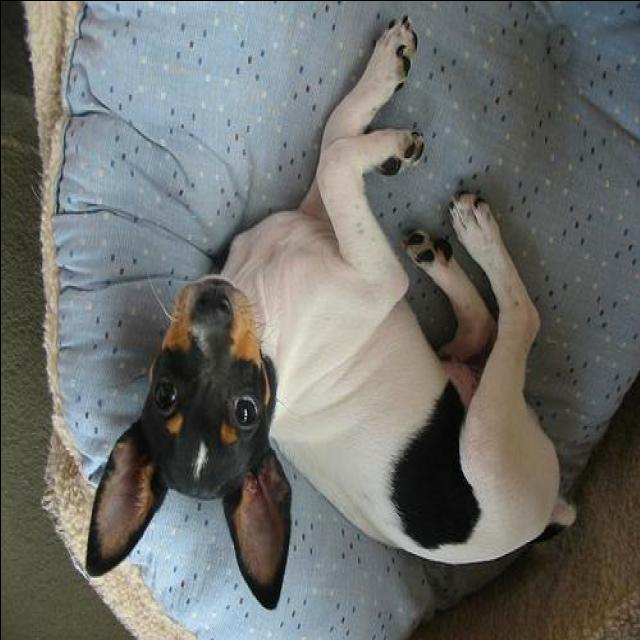toy_terrier: (83, 14, 575, 612)
